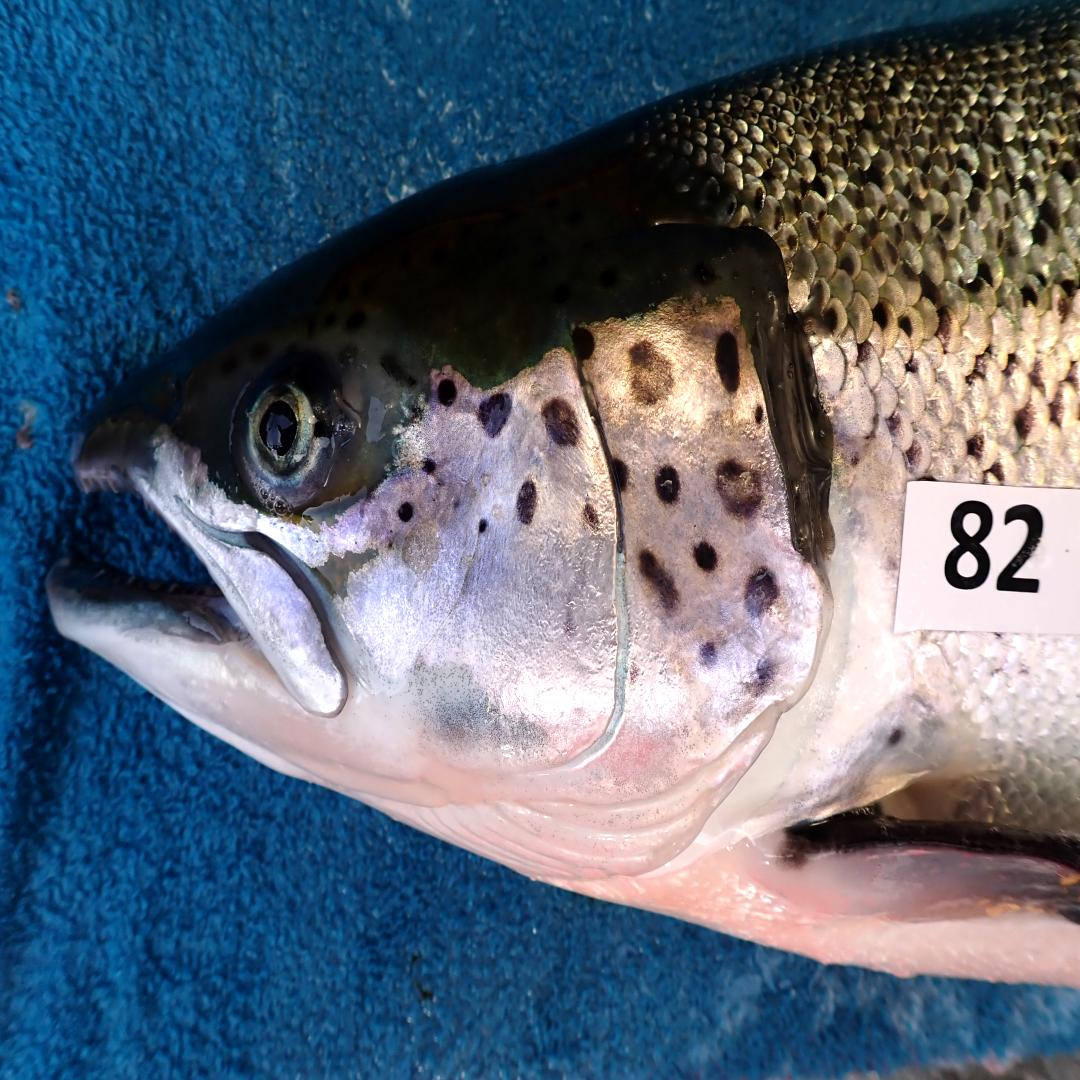roi: (343, 294, 827, 885)
